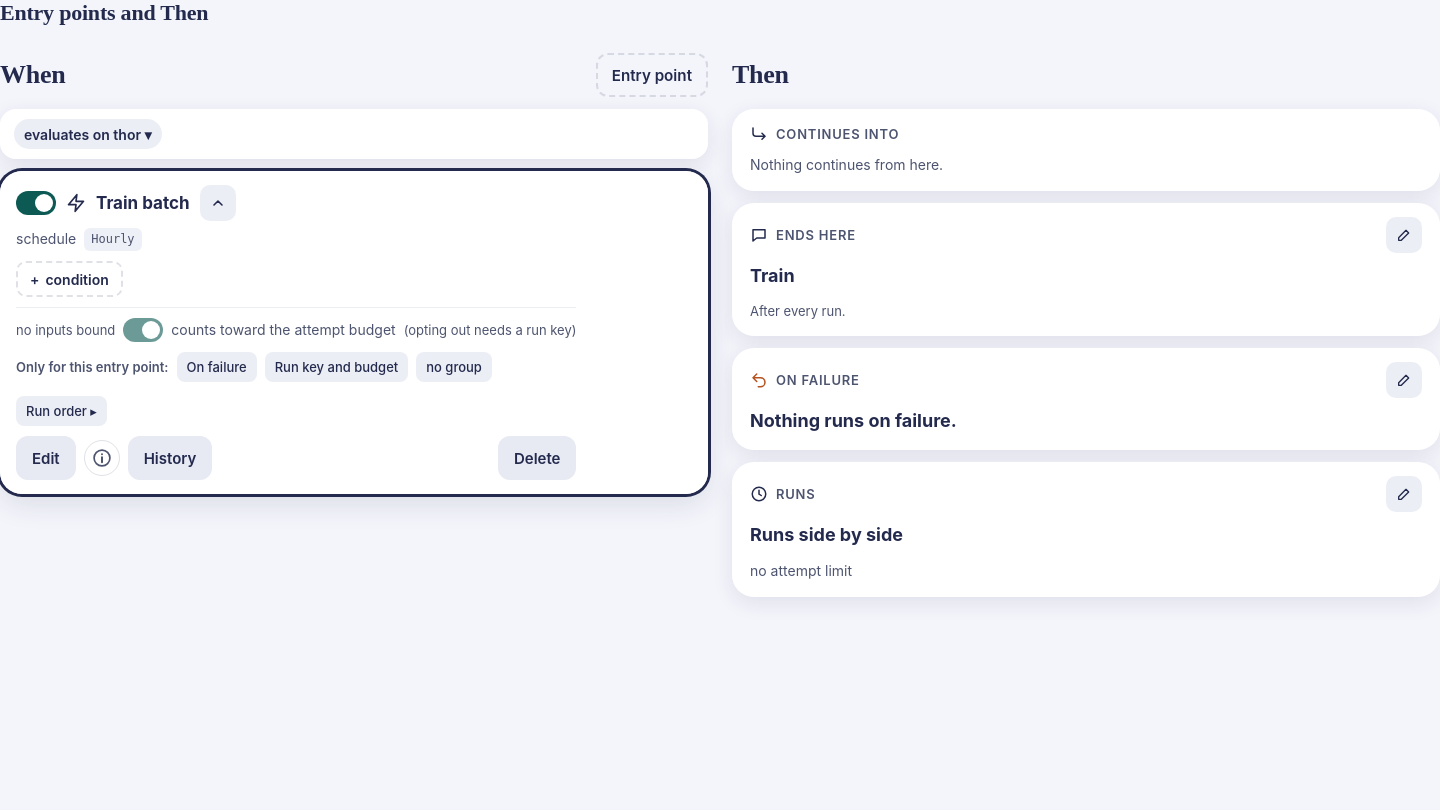
Test: the same rule document the Rules tab saved › adding a condition
Step 1. Click the button with aria-label "Add condition" → (69, 279), box [16,261,123,297]
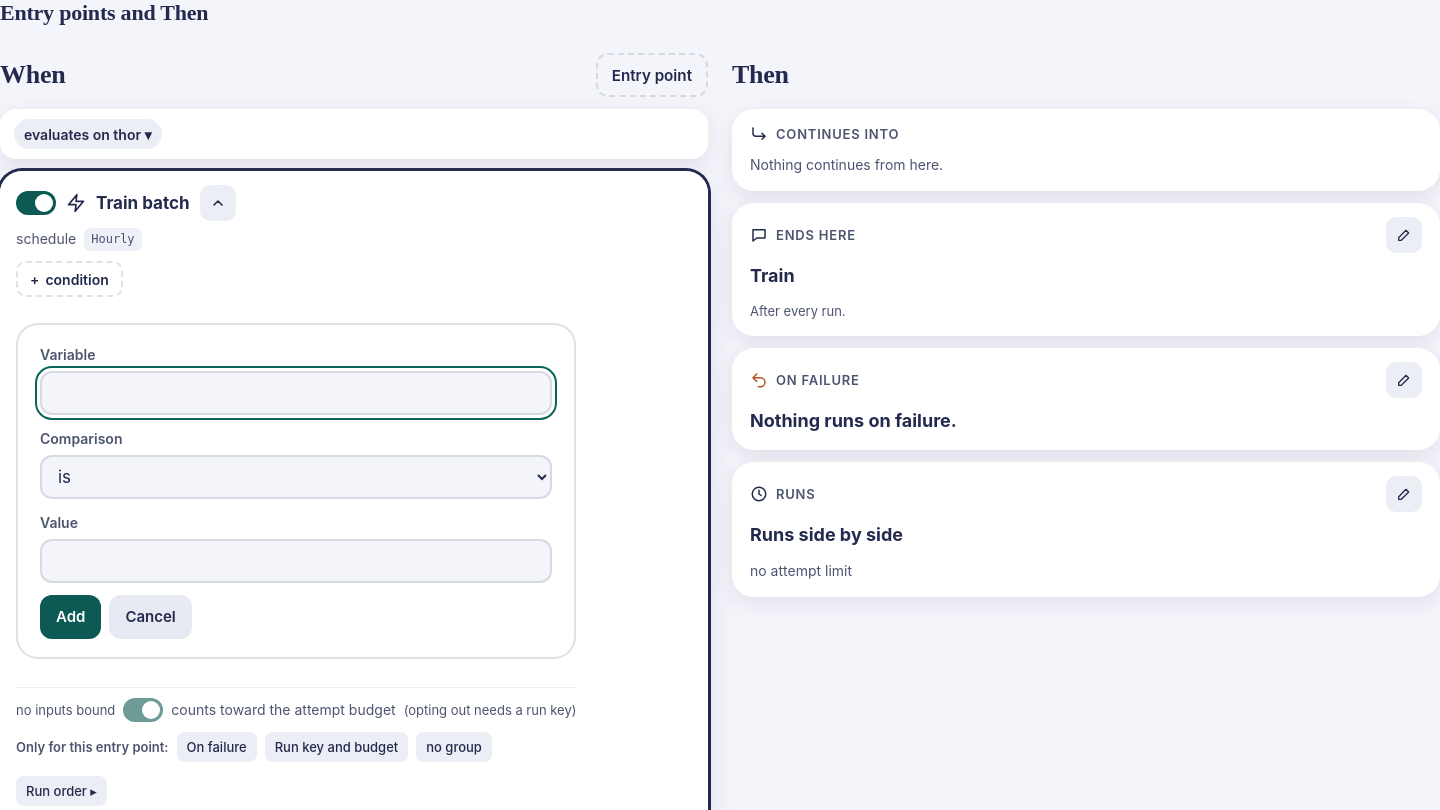
Step 2. Type "branch" into the field labelled "Variable" → (296, 393), box [40,371,552,415]
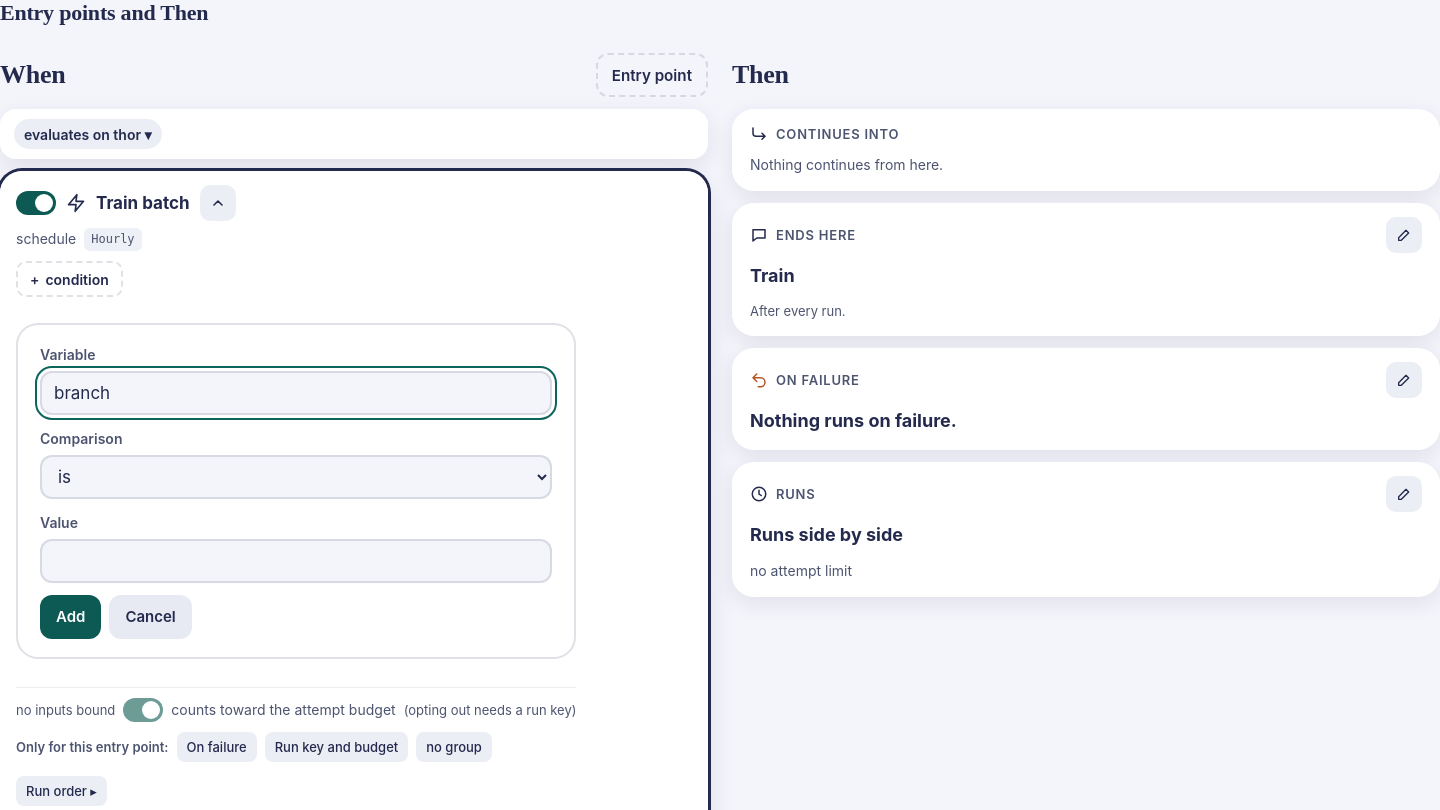
Step 3. Type "main" into the field labelled "Value" → (296, 561), box [40,539,552,583]
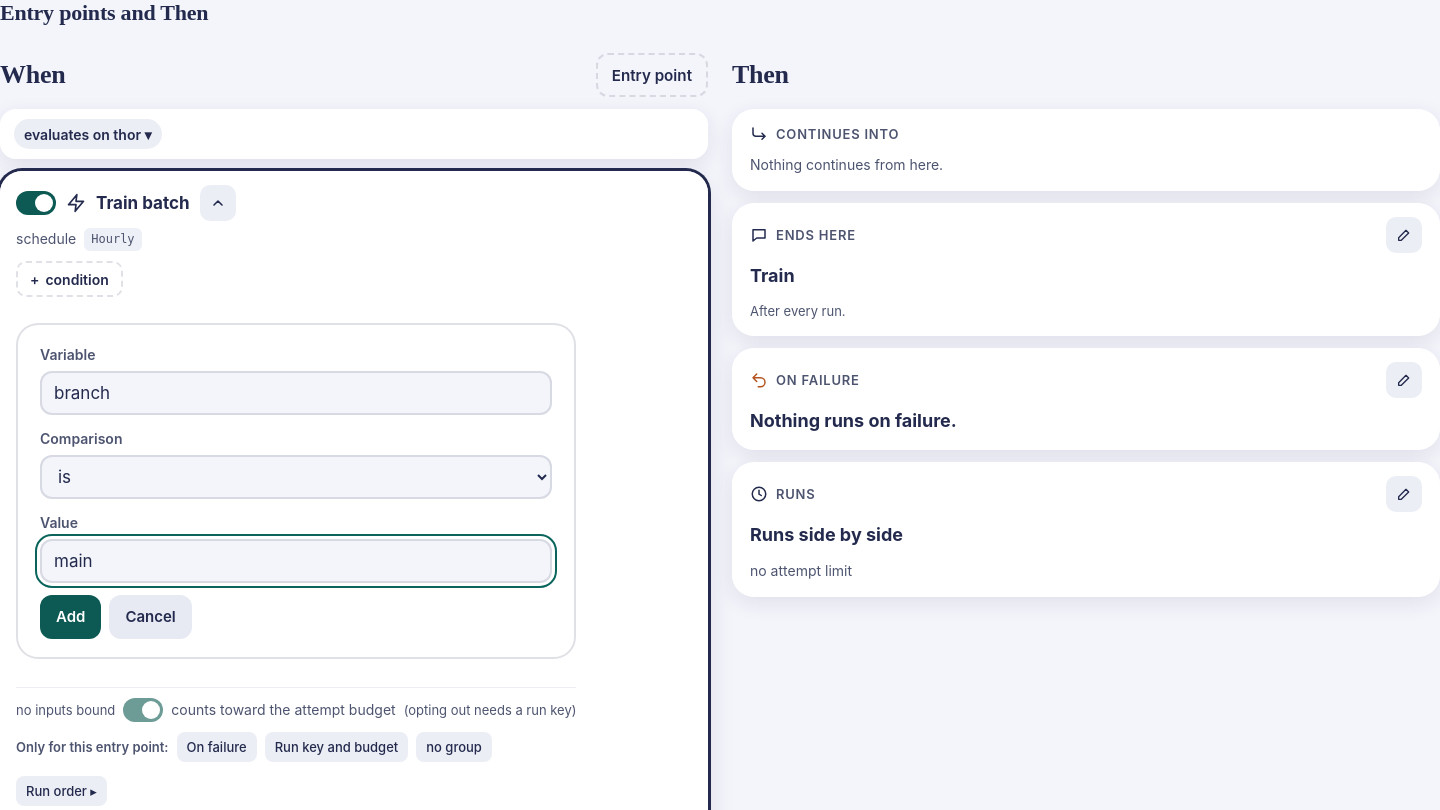
Step 4. Click the button "Add" → (71, 617), box [40,595,101,639]
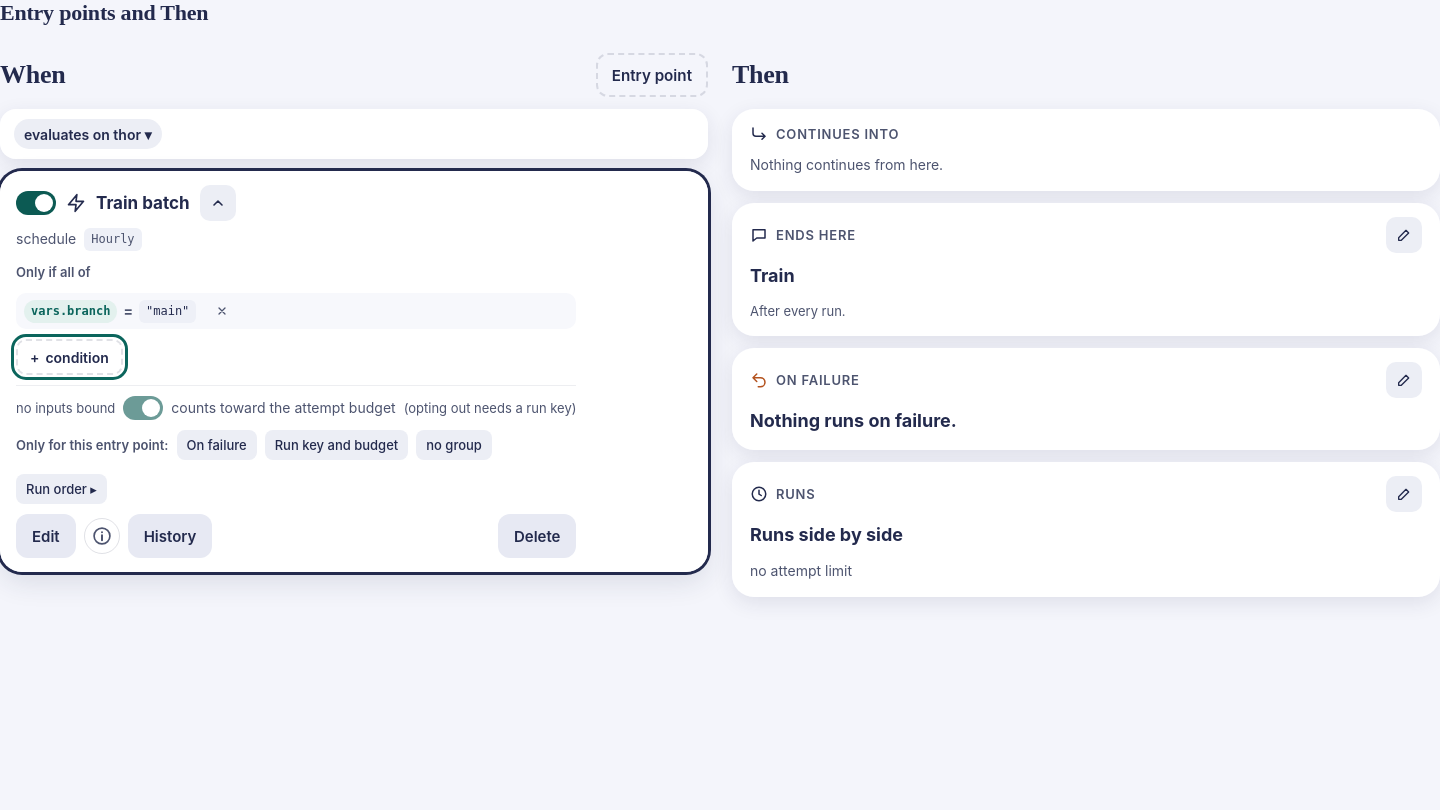
Now the form is gone
